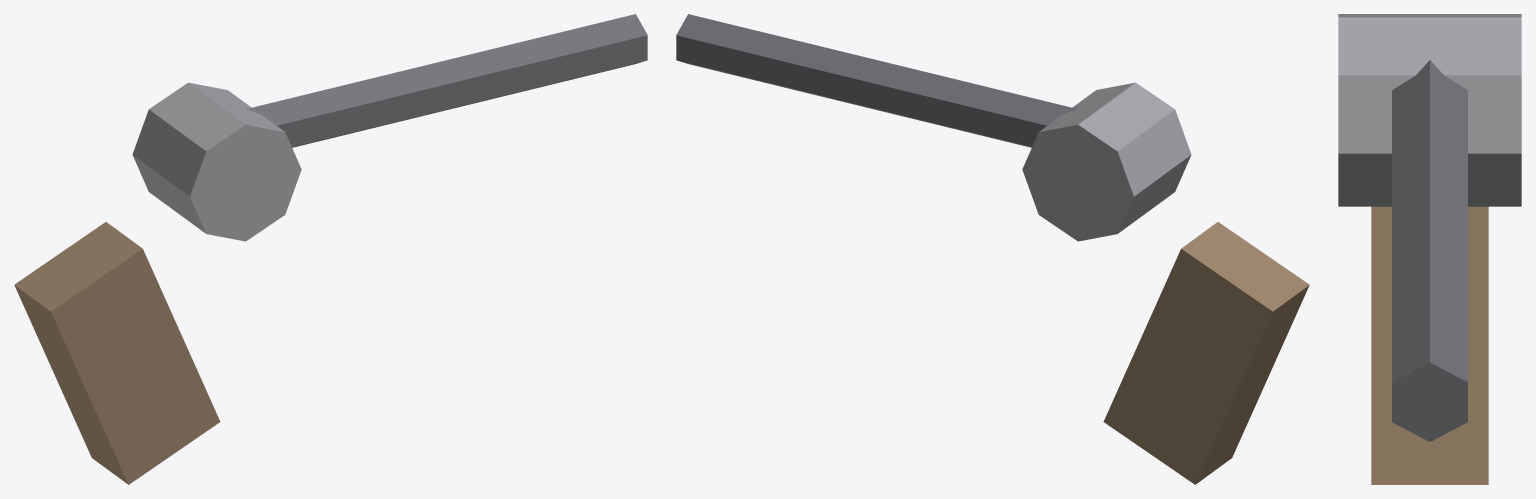
Rendered from held_weapon_nagant.glb.
3 renders of one model, left to right at view 1: azimuth 30°, elevation 25°; view 2: azimuth 150°, elevation 25°; view 3: azimuth 270°, elevation 25°, orthographic. The views are drawn at different scales.
Parts seen in each view (by area): view 1: held_weapon_nagant; view 2: held_weapon_nagant; view 3: held_weapon_nagant.
Boxes of the visible parts, x1=… form: held_weapon_nagant: x1=14, y1=14, x2=647, y2=484; held_weapon_nagant: x1=676, y1=14, x2=1309, y2=484; held_weapon_nagant: x1=1338, y1=14, x2=1521, y2=484.
Bounding box in the file's own units: 0.3025 × 0.1638 × 0.05.
